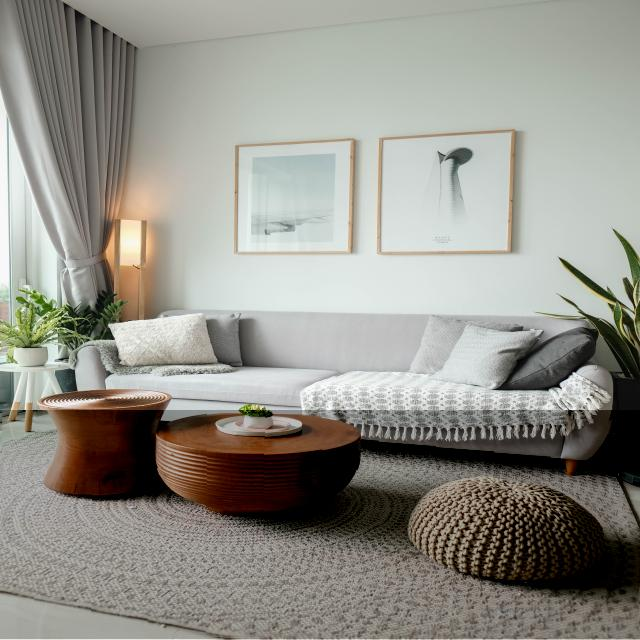floor: (0, 411, 640, 639)
